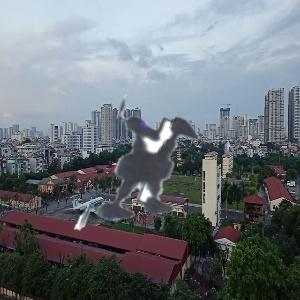drone: (23, 45, 268, 290)
